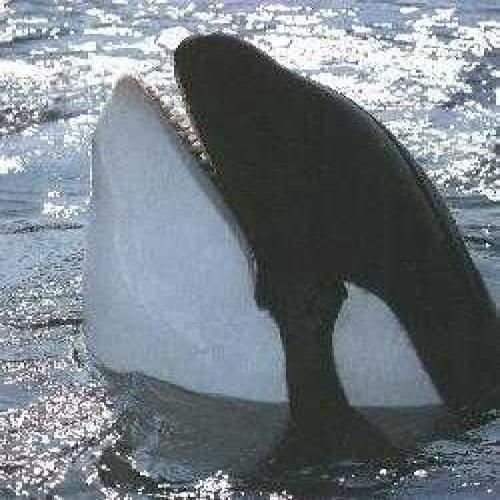killer_whale-endangered: (76, 20, 500, 444)
